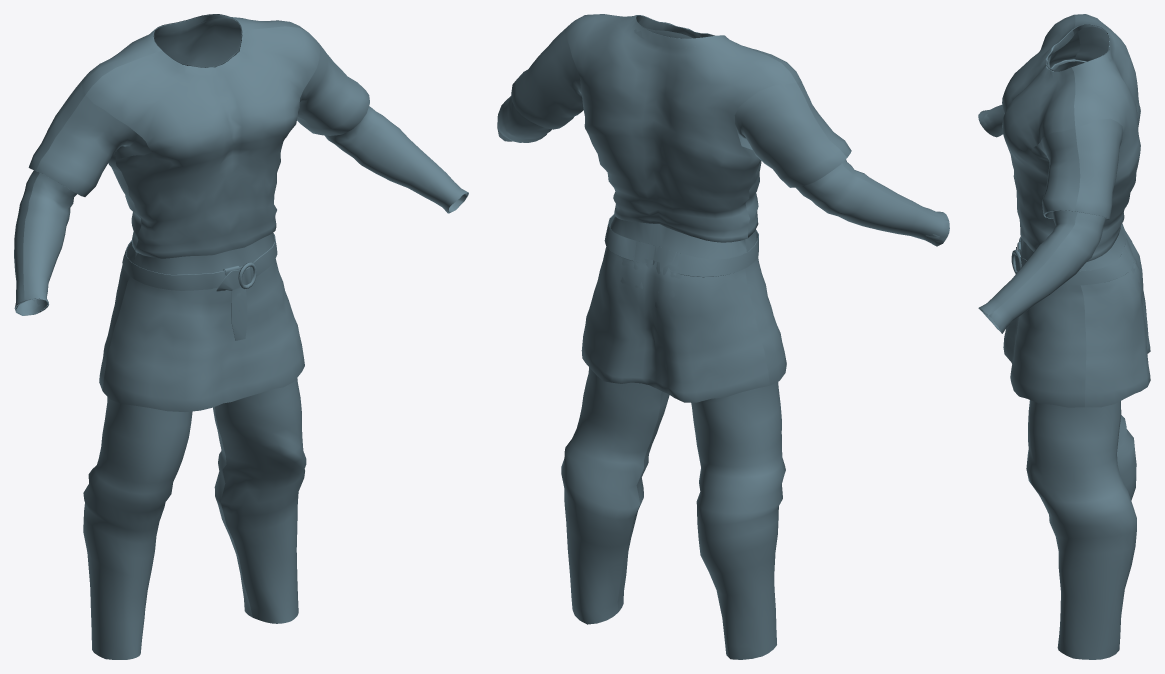
Rendered from travel_suit.glb.
The picture shows the model from 3 angles, left to right: view 1: azimuth 30°, elevation 25°; view 2: azimuth 150°, elevation 25°; view 3: azimuth 270°, elevation 25°; orthographic projection. The views are drawn at different scales.
Parts seen in each view (by area): view 1: CoastalTunic, CoastalPants; view 2: CoastalTunic, CoastalPants; view 3: CoastalTunic, CoastalPants.
Part boxes in pixels (x1=…): CoastalTunic: x1=14, y1=14, x2=468, y2=411; CoastalPants: x1=83, y1=378, x2=306, y2=659; CoastalTunic: x1=497, y1=14, x2=949, y2=402; CoastalPants: x1=561, y1=256, x2=785, y2=659; CoastalTunic: x1=978, y1=14, x2=1150, y2=407; CoastalPants: x1=1026, y1=242, x2=1142, y2=659.
Size of the model in its own units: 1.07 by 1.37 by 0.3708.
